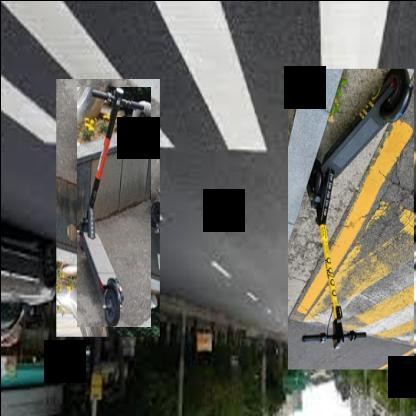kickboard: (303, 70, 412, 347), (77, 86, 150, 325)
